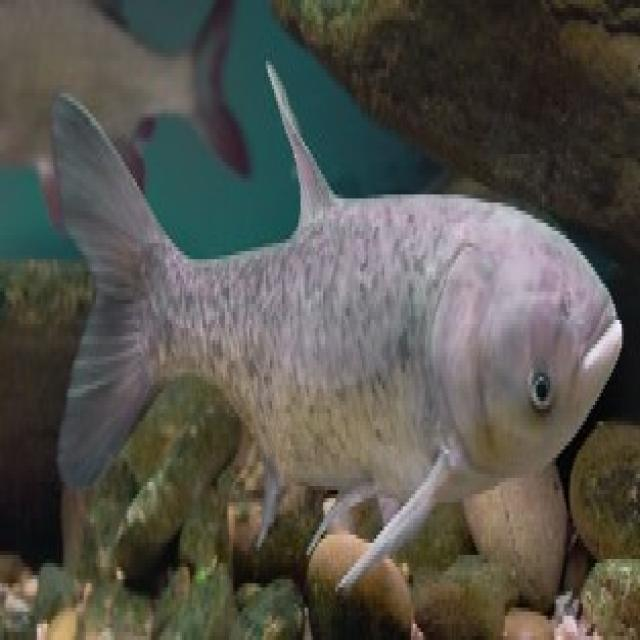Big-Head-Carp: (19, 39, 631, 634)
